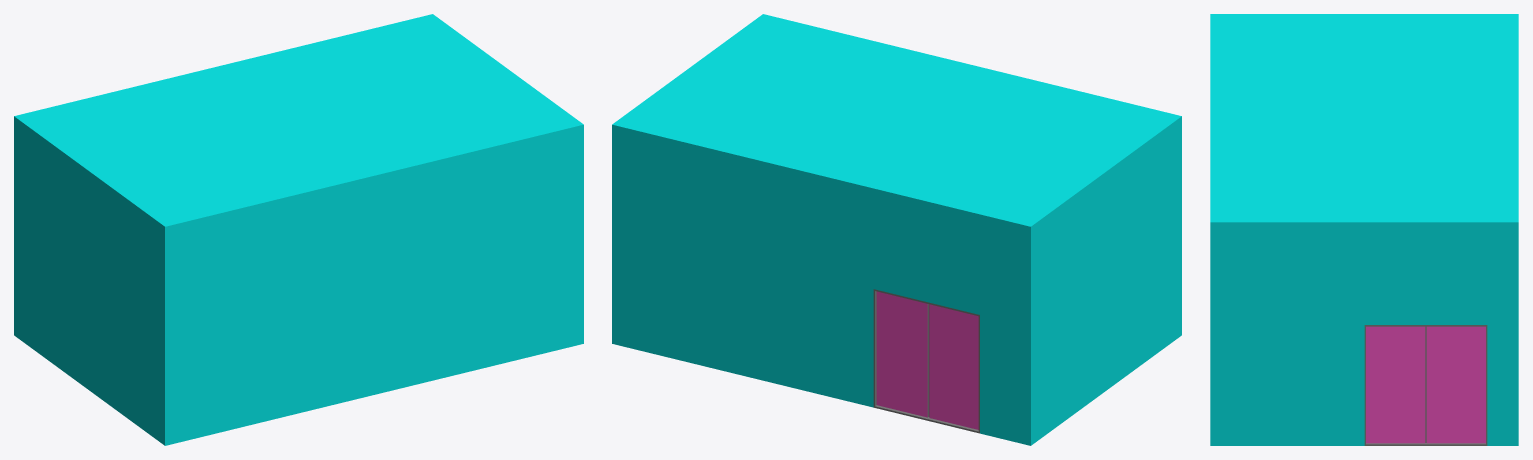
Rendered from Mirrirors.glb.
3 renders of one model, left to right at view 1: azimuth 30°, elevation 25°; view 2: azimuth 150°, elevation 25°; view 3: azimuth 270°, elevation 25°, orthographic.
Parts seen in each view (by area): view 1: Cube; view 2: Cube; view 3: Cube.
Part boxes in pixels (x1,y1,x2,y2): Cube: [14, 14, 583, 445]; Cube: [612, 14, 1181, 445]; Cube: [1210, 14, 1518, 445].
Bounding box in the file's own units: 8 × 4 × 5.
